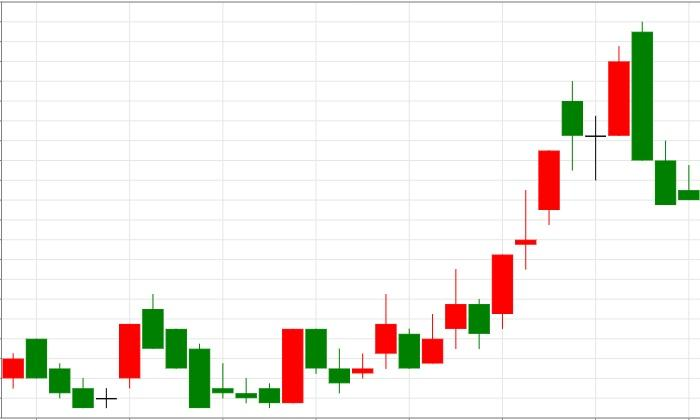bearish_engulfing_fall: (492, 21, 653, 329)
